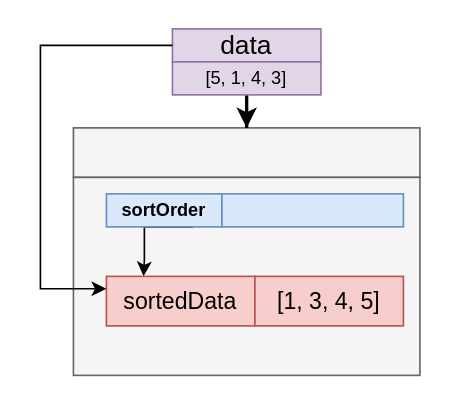
Some shapes in this 449 by 404 pixel diagram are drawn without their labels. Here are the shapes that lost their labels. From the top down, the centre of each, then its label:
At (246,151): "Table".
At (311,209): "null, 'asc', or 'desc'".
